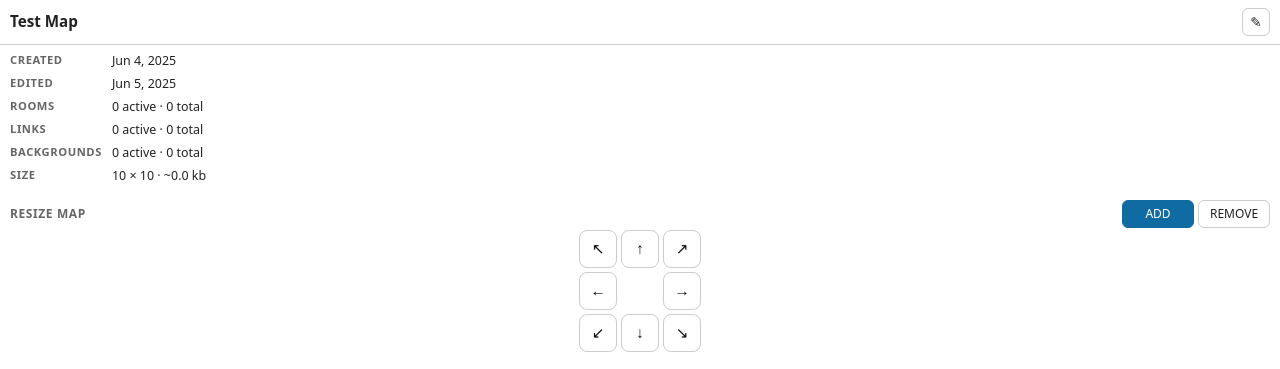
Test: clicking rename button shows an input pre-filled with the current name
Click the button named "rename" at (1256, 22), box x1=1242 y1=8 x2=1270 y2=36
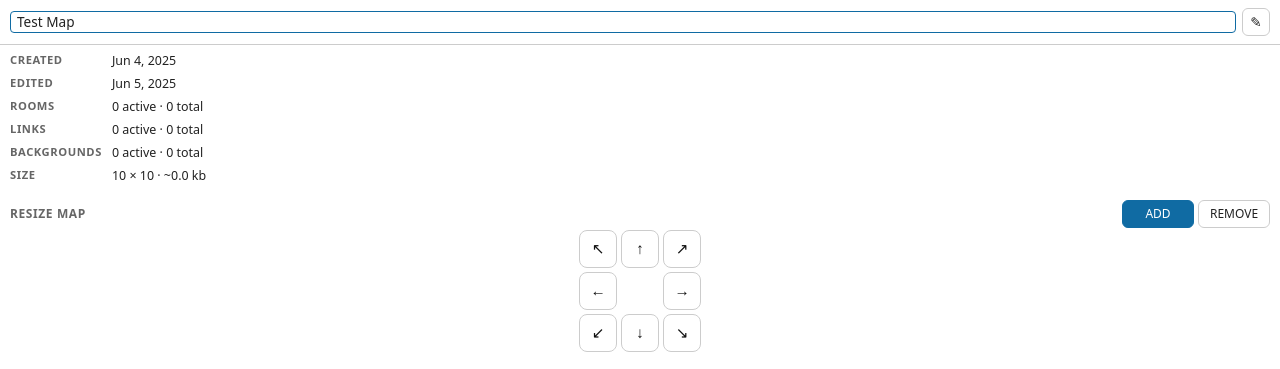
Check: the field showing "Test Map" is shown, box x1=10 y1=11 x2=1236 y2=33
